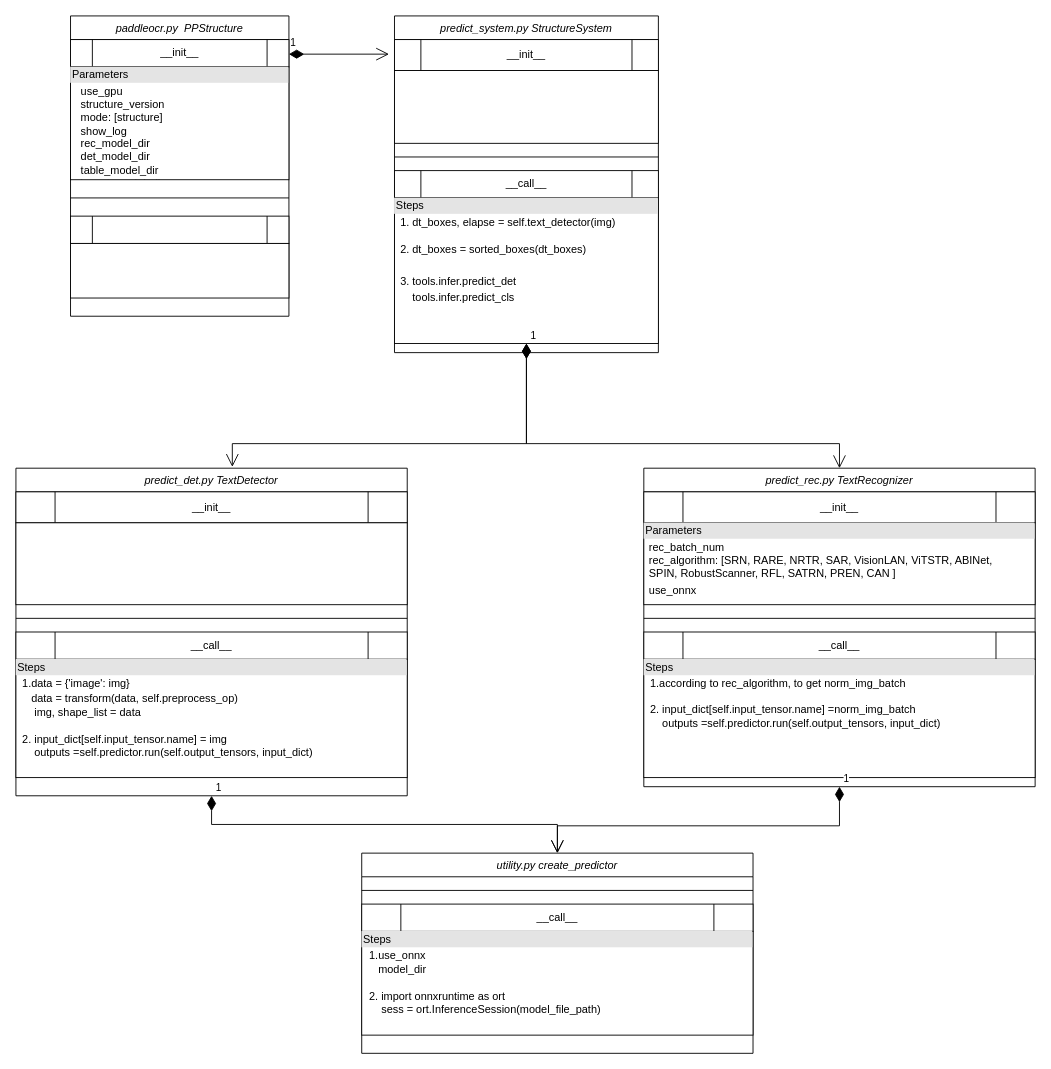
Image size: 1051x1069. Some labels were removed from this diagram. The centre of each missing label's shape, as x and y in pixels:
OCR: the point at 179,229
Parameters det_algorithm: [DB,DB++,EAST,SAST,PSE,FCE,CT] use_onnx: the point at 211,563
Parameters img return_ocr_result_in_table: the point at 179,270
Parameters mode recovery tools.infer.predict_rec tools.infer.predict_cls: the point at 526,106
